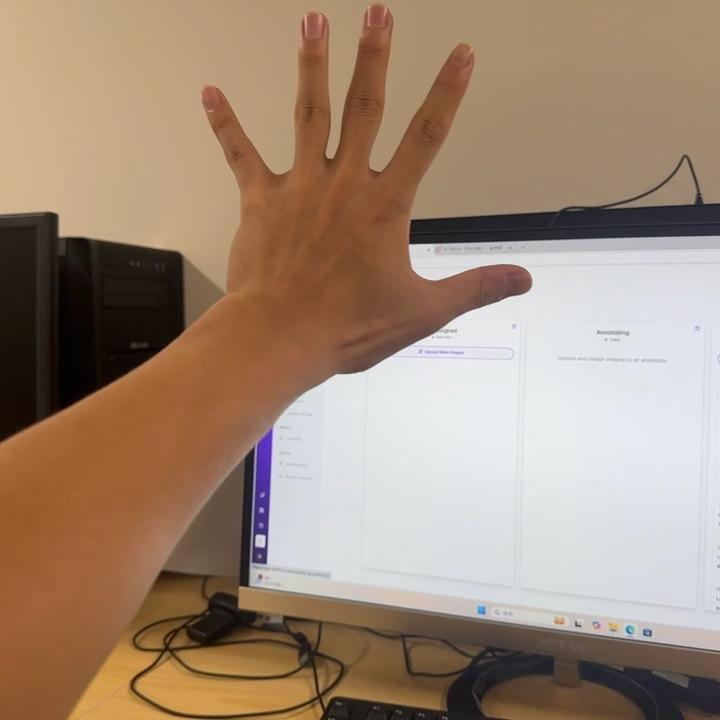without_gloves: (180, 0, 551, 392)
